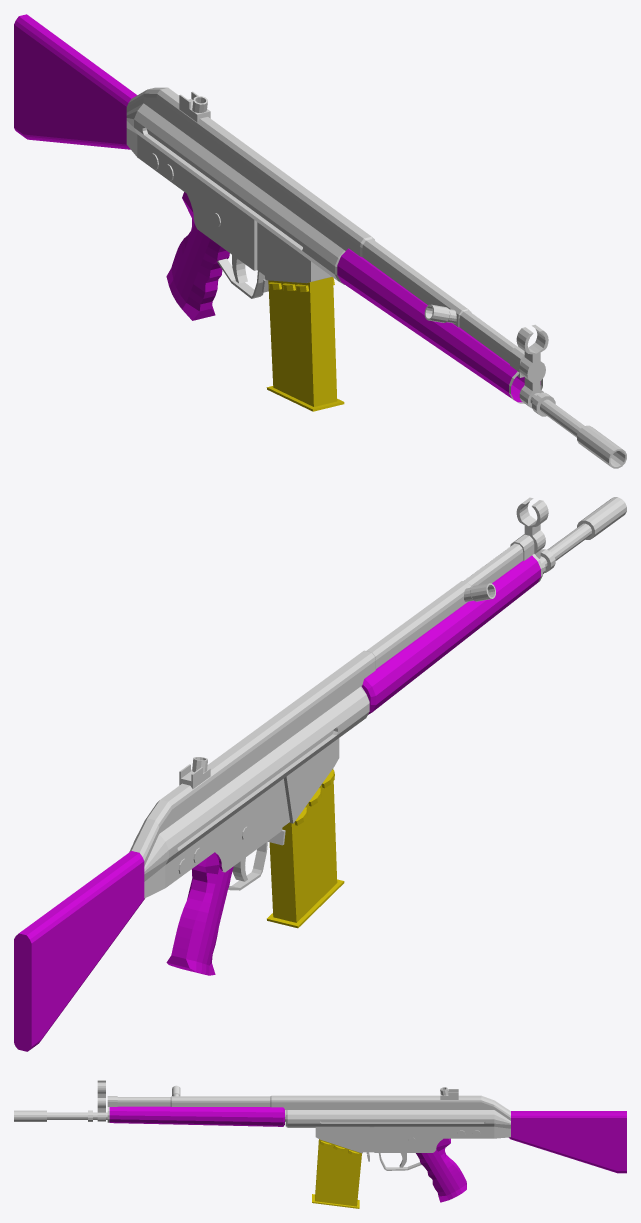
3 renders of one model, top to bottom at view 1: azimuth 30°, elevation 25°; view 2: azimuth 150°, elevation 25°; view 3: azimuth 270°, elevation 25°, orthographic. The views are drawn at different scales.
Parts seen in each view (by area): view 1: Gun Itself; view 2: Gun Itself; view 3: Gun Itself.
Boxes of the visible parts, box(x1,y1,x2,y2) form: Gun Itself: box(14, 14, 626, 468); Gun Itself: box(14, 497, 626, 1051); Gun Itself: box(14, 1080, 626, 1208).
Bounding box in the file's own units: 0.0331 × 0.6461 × 0.1434.
